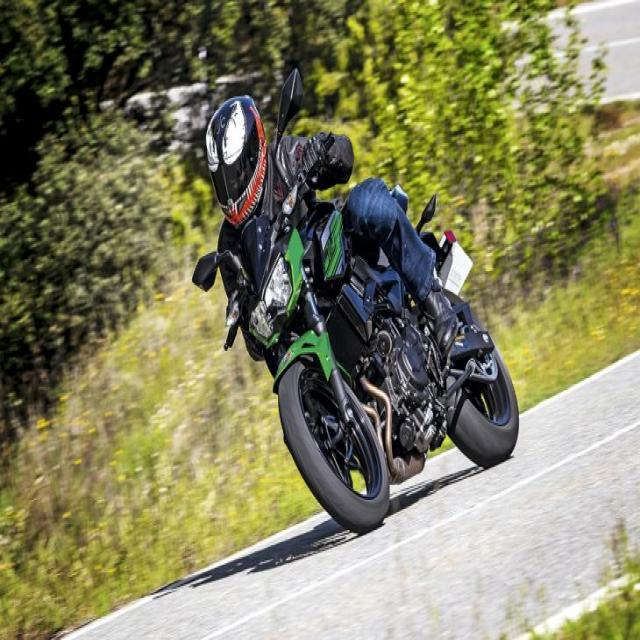MOTORCYCLE: (216, 205, 523, 544)
